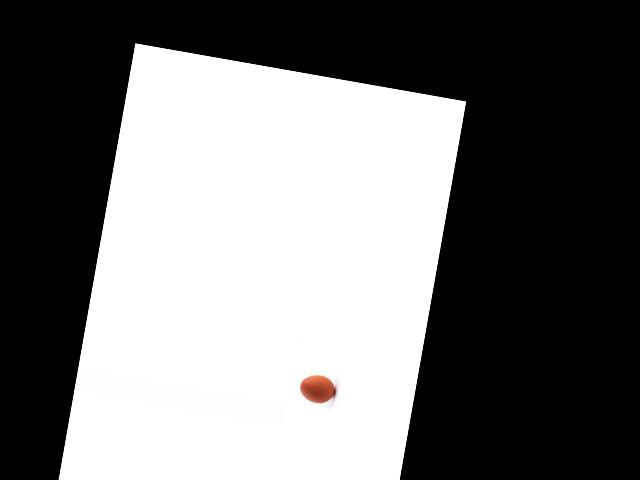egg: (298, 372, 336, 406)
